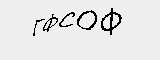Г: (30, 15, 44, 37)
О: (76, 7, 97, 31)
С: (59, 9, 76, 28)
Ф: (100, 6, 123, 35), (42, 12, 59, 34)
